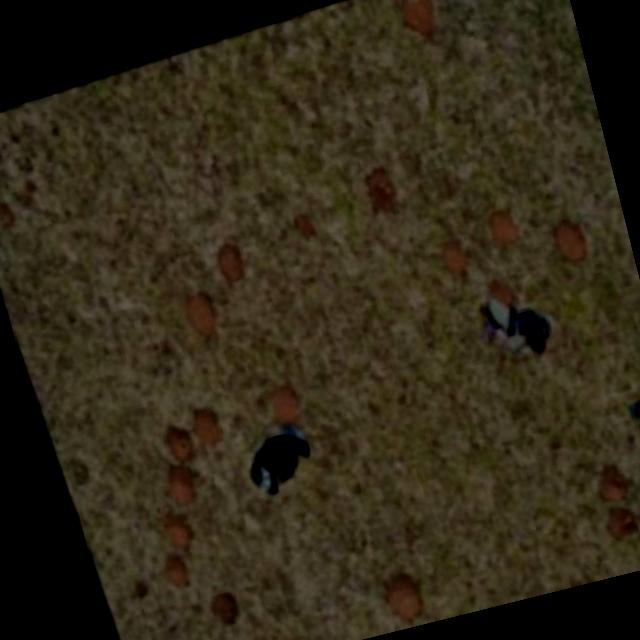Person: (218, 399, 322, 502), (466, 276, 564, 368), (613, 374, 640, 535)
